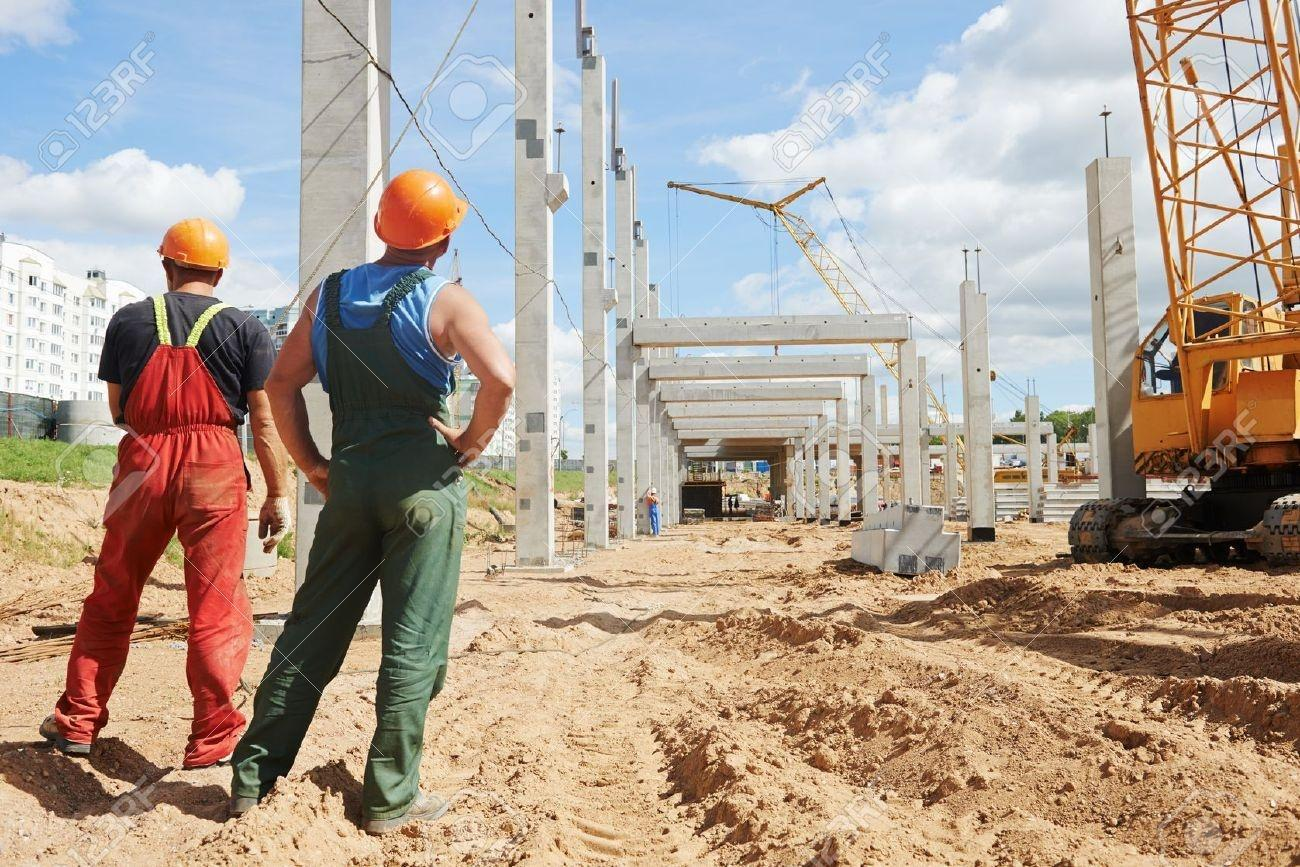helmet: (361, 174, 481, 248), (146, 207, 238, 278)
person: (273, 174, 518, 824), (33, 210, 276, 764)
